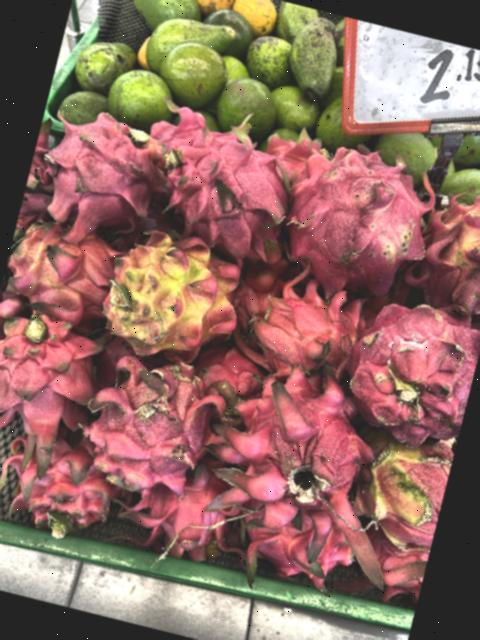buah-naga-belum-matang: (264, 139, 446, 317), (92, 221, 253, 371), (0, 212, 125, 336), (346, 426, 456, 560), (397, 176, 480, 320)
buah-naga-matang: (197, 370, 428, 597), (73, 348, 236, 512), (22, 101, 184, 252), (146, 119, 310, 268), (0, 309, 121, 489), (235, 276, 370, 393), (0, 425, 127, 542)
